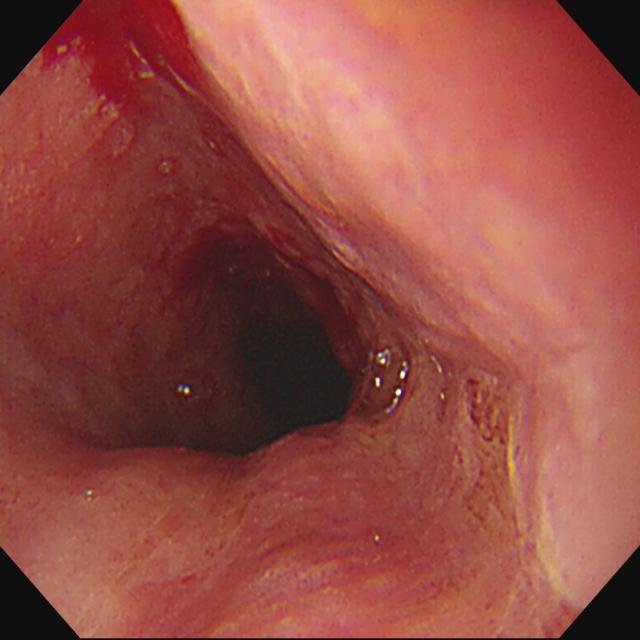A: (220, 178, 384, 324), (423, 376, 518, 528)
C: (40, 2, 215, 127)
E: (252, 318, 350, 434)
U: (388, 360, 410, 415), (177, 385, 192, 397), (374, 376, 381, 390)
